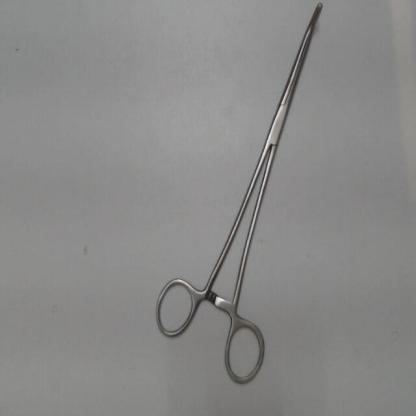Lahey Forceps: (149, 1, 329, 392)
